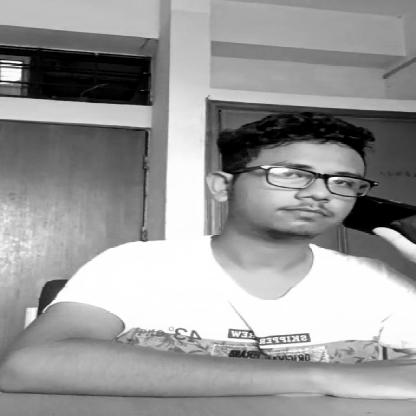Normal: (221, 129, 362, 227)
